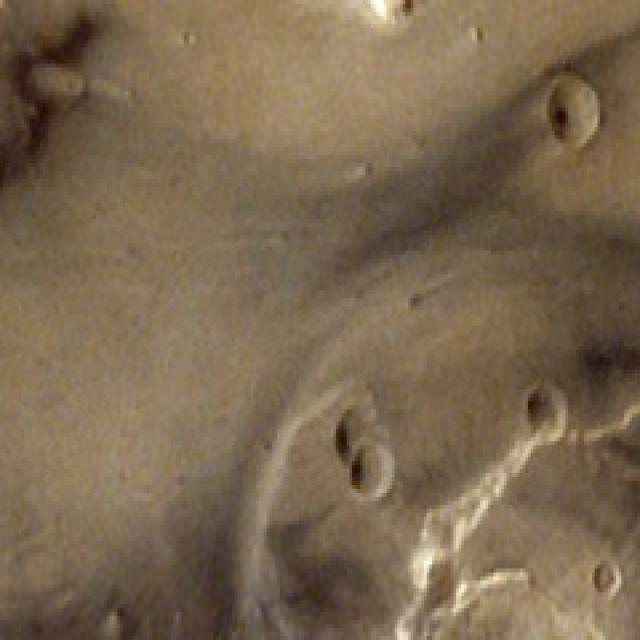Crater: (397, 568, 635, 640), (544, 72, 608, 159), (350, 437, 398, 509)
